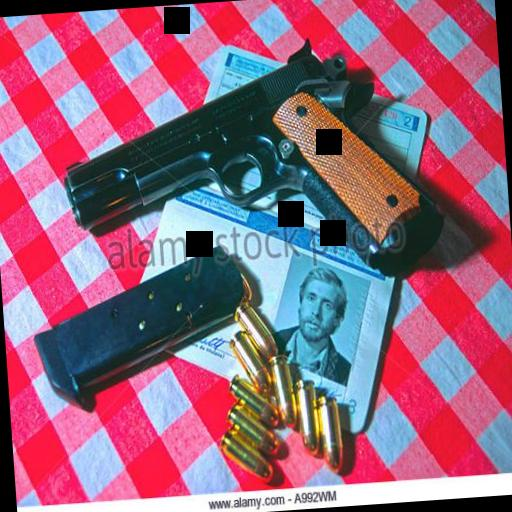Handgun: (52, 26, 444, 292)
